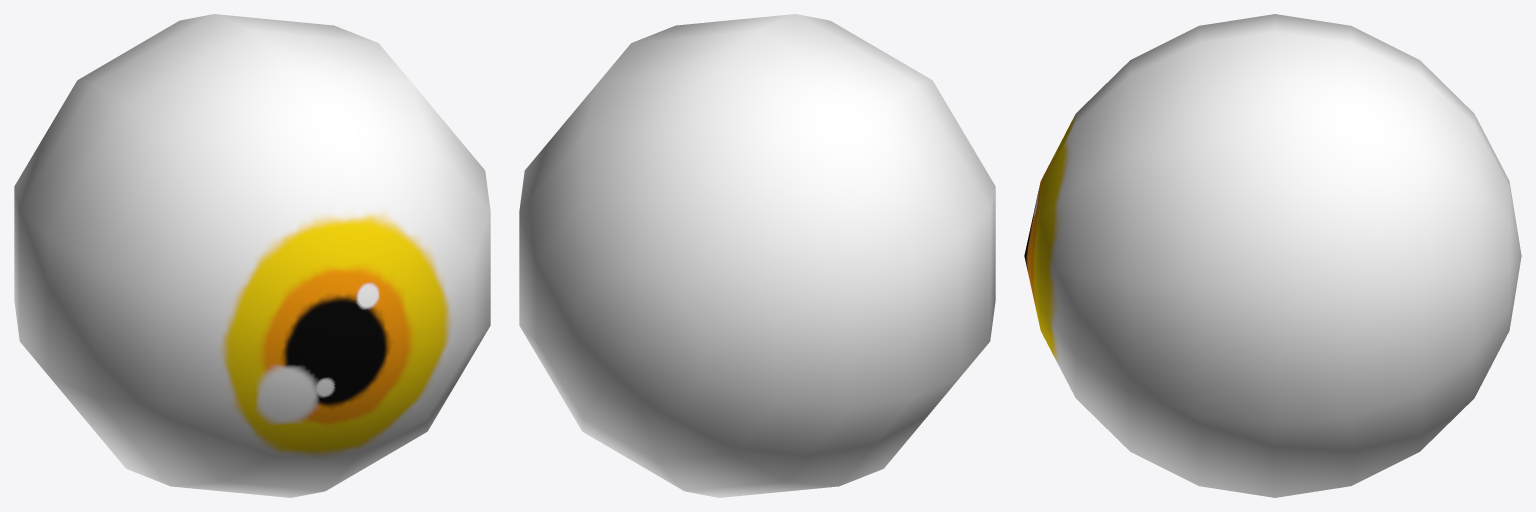
Rendered from Character Brawl beasts CAT EYE.fbx.
3 renders of one model, left to right at view 1: azimuth 30°, elevation 25°; view 2: azimuth 150°, elevation 25°; view 3: azimuth 270°, elevation 25°, orthographic.
Visible parts, largest first — view 1: Sphere.006; view 2: Sphere.006; view 3: Sphere.006.
Boxes of the visible parts, x1,y1,x2,y2 form: Sphere.006: (14, 14, 490, 497); Sphere.006: (519, 14, 995, 497); Sphere.006: (1024, 14, 1521, 497).
Size of the model in its own units: 29.5 by 31.02 by 31.28.
